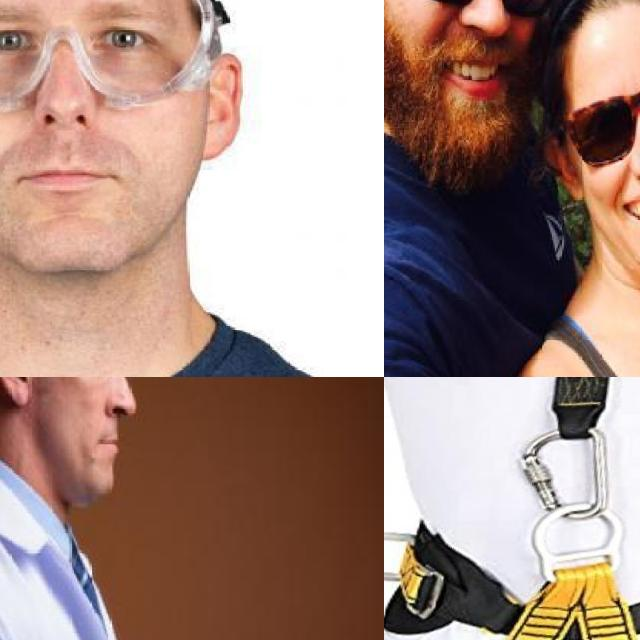Harness: (384, 377, 640, 640)
No_Ear-Protection: (199, 43, 249, 176), (0, 377, 39, 410)
face_nomask: (0, 6, 163, 215), (384, 0, 556, 107), (583, 73, 640, 233), (66, 377, 140, 472)
glasses: (0, 0, 222, 116), (565, 61, 640, 167)
head_nohelmet: (526, 0, 640, 62)
person: (384, 0, 558, 377), (502, 0, 640, 377), (0, 377, 151, 640)
